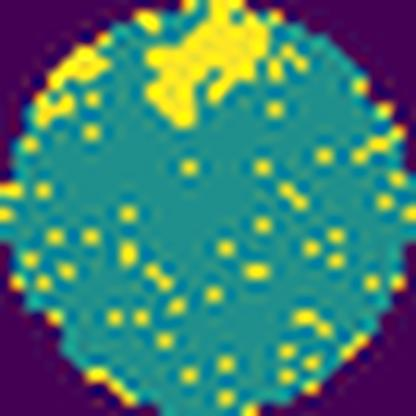Loc: (148, 12, 266, 129)
